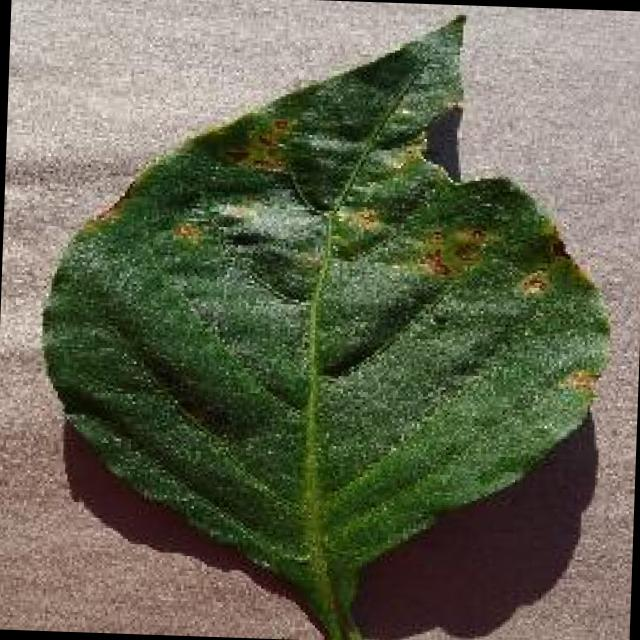Chilli_Bacterial_Spot: (26, 0, 625, 640), (78, 92, 616, 418), (164, 182, 492, 286), (409, 203, 504, 291), (215, 184, 327, 252), (217, 108, 297, 176), (333, 195, 392, 248), (436, 222, 488, 274), (382, 127, 430, 174), (160, 210, 211, 253), (78, 194, 124, 236), (557, 363, 601, 397), (346, 201, 386, 237), (417, 243, 452, 280), (516, 264, 552, 298), (256, 112, 290, 148), (168, 215, 204, 246), (218, 142, 251, 168)
